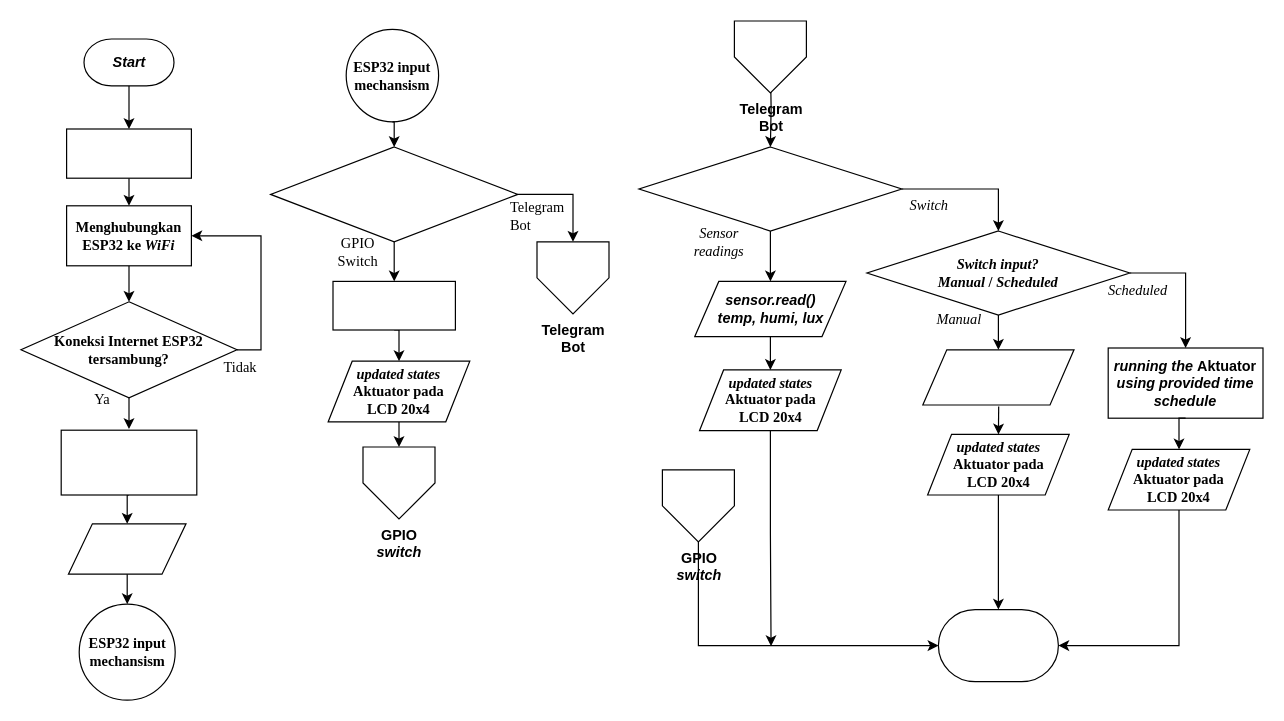
This 1284x721 diagram has some shape labels left out. Each missing label, with the centre of its shape:
"Inisialisasi ESP32" belongs at pixel 128 153.
"Kontrol state Aktuator" belongs at pixel 393 305.
"Menghubungkan ke server Telegram" belongs at pixel 128 462.
"Stop" belongs at pixel 997 645.
"TgramBot input? Sensor readings / Switch" belongs at pixel 770 188.
"Toggle on / off state Aktuator" belongs at pixel 998 377.
"User Input" belongs at pixel 126 548.
"What input? GPIO Sw / Telegram Bot" belongs at pixel 393 194.
